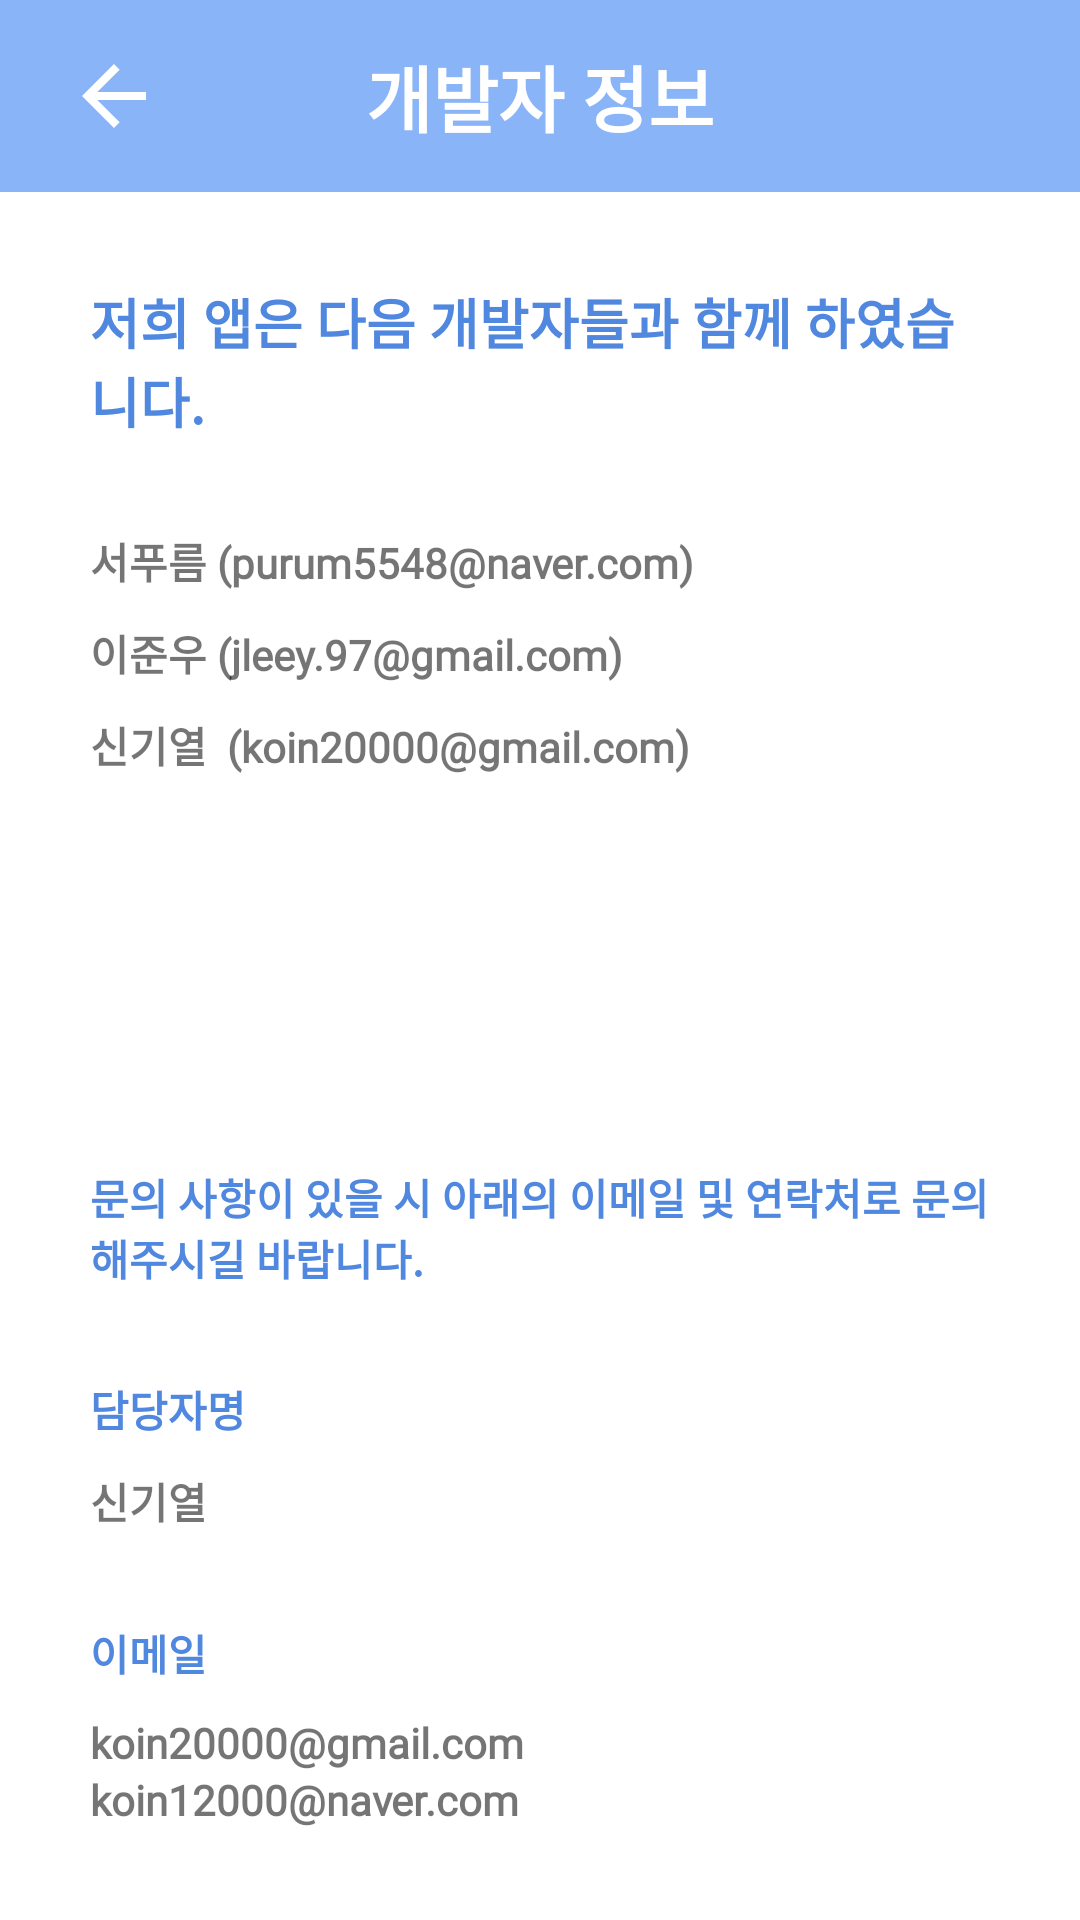

Icon bounding boxes for this 1080px x 1920px phone screenshot, format (x1=x1, y1=y1, x2=x2, y2=y2):
arrow back: (x1=82, y1=64, x2=146, y2=128)
